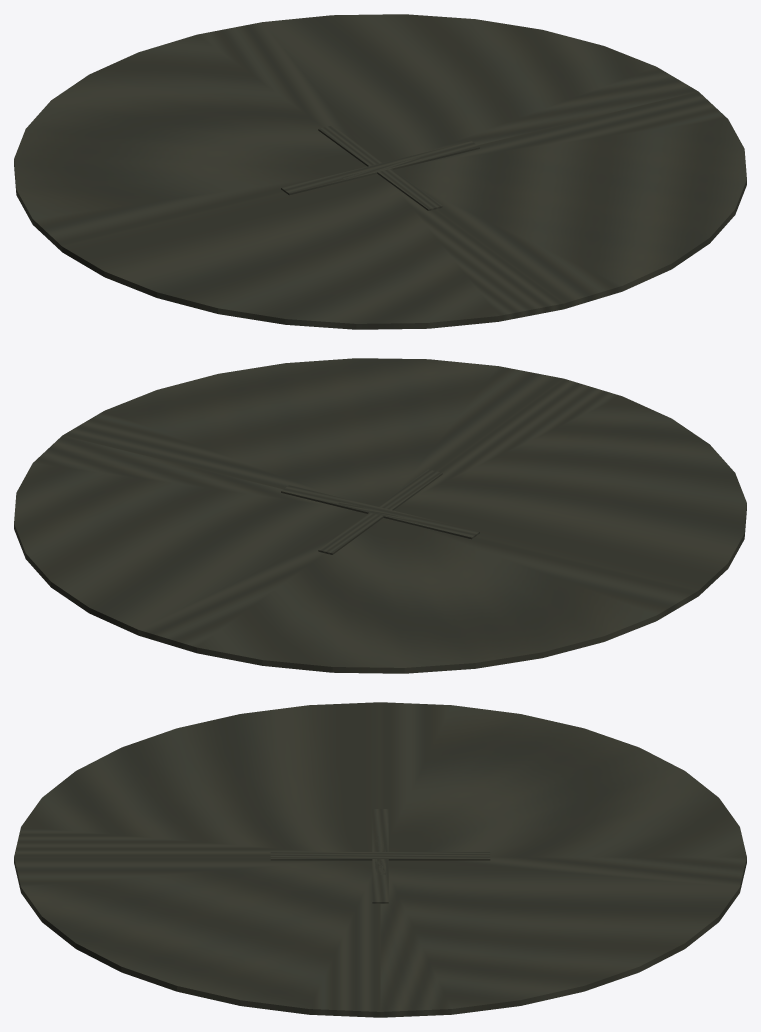
The model's file is env_helipad_concrete_a.glb.
The picture shows the model from 3 angles, top to bottom: view 1: azimuth 30°, elevation 25°; view 2: azimuth 150°, elevation 25°; view 3: azimuth 270°, elevation 25°; orthographic projection.
Parts seen in each view (by area): view 1: env_helipad_concrete_a; view 2: env_helipad_concrete_a; view 3: env_helipad_concrete_a.
Boxes of the visible parts, bbox=[...] form: env_helipad_concrete_a: bbox=[14, 14, 746, 329]; env_helipad_concrete_a: bbox=[14, 358, 746, 673]; env_helipad_concrete_a: bbox=[14, 702, 746, 1017].
Size of the model in its own units: 8 by 0.09 by 8.
Materials: 1 (1 with a texture image).
